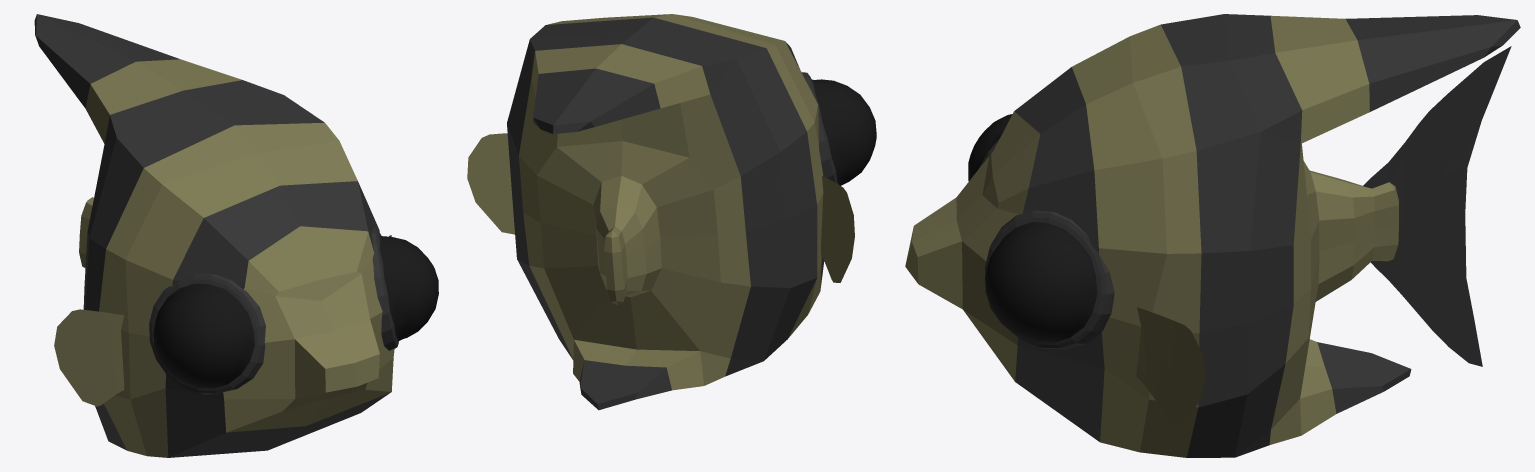
Rendered from MoorishIdol.glb.
The picture shows the model from 3 angles, left to right: view 1: azimuth 30°, elevation 25°; view 2: azimuth 150°, elevation 25°; view 3: azimuth 270°, elevation 25°; orthographic projection. The views are drawn at different scales.
Parts seen in each view (by area): view 1: MoorishIdol_Cube.052; view 2: MoorishIdol_Cube.052; view 3: MoorishIdol_Cube.052.
Boxes of the visible parts, x1,y1,x2,y2 form: MoorishIdol_Cube.052: [34, 14, 438, 457]; MoorishIdol_Cube.052: [467, 14, 876, 410]; MoorishIdol_Cube.052: [905, 14, 1520, 457].
Size of the model in its own units: 3.28 by 2.92 by 4.3.
